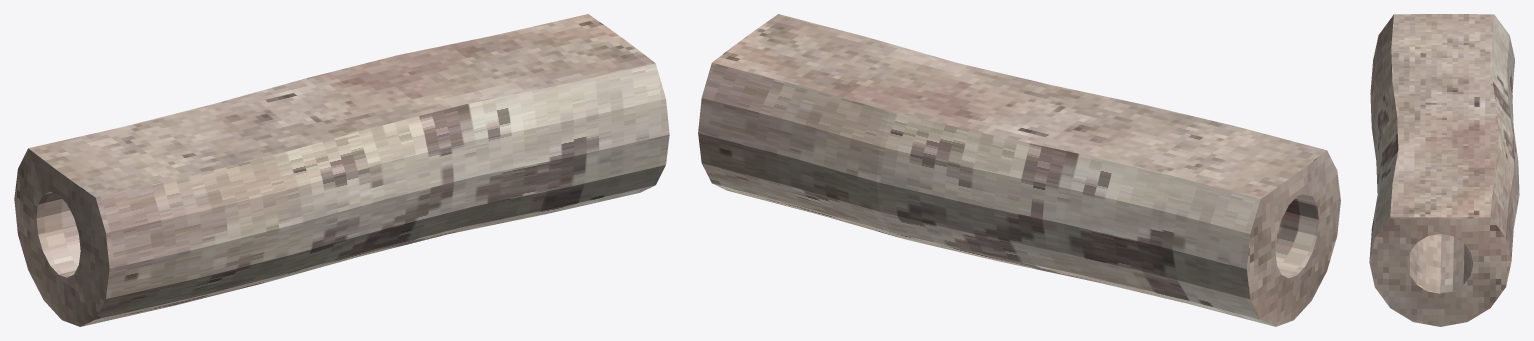
File: LogSeat.fbx
The picture shows the model from 3 angles, left to right: view 1: azimuth 30°, elevation 25°; view 2: azimuth 150°, elevation 25°; view 3: azimuth 270°, elevation 25°; orthographic projection. The views are drawn at different scales.
Visible parts, largest first — view 1: LogSeat.LOD_0; view 2: LogSeat.LOD_0; view 3: LogSeat.LOD_0.
Boxes of the visible parts, x1=… form: LogSeat.LOD_0: x1=14, y1=14, x2=669, y2=326; LogSeat.LOD_0: x1=698, y1=14, x2=1340, y2=326; LogSeat.LOD_0: x1=1369, y1=14, x2=1519, y2=326.
Bounding box in the file's own units: 684 × 171 × 211.
